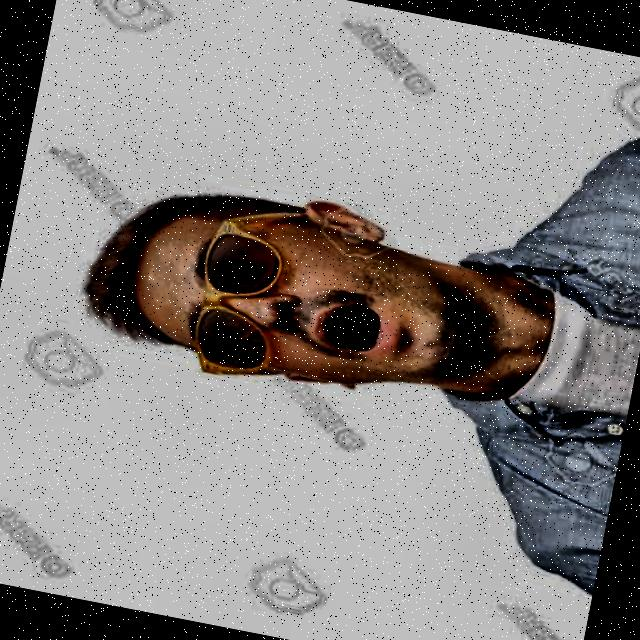surprised: (87, 156, 510, 450)
